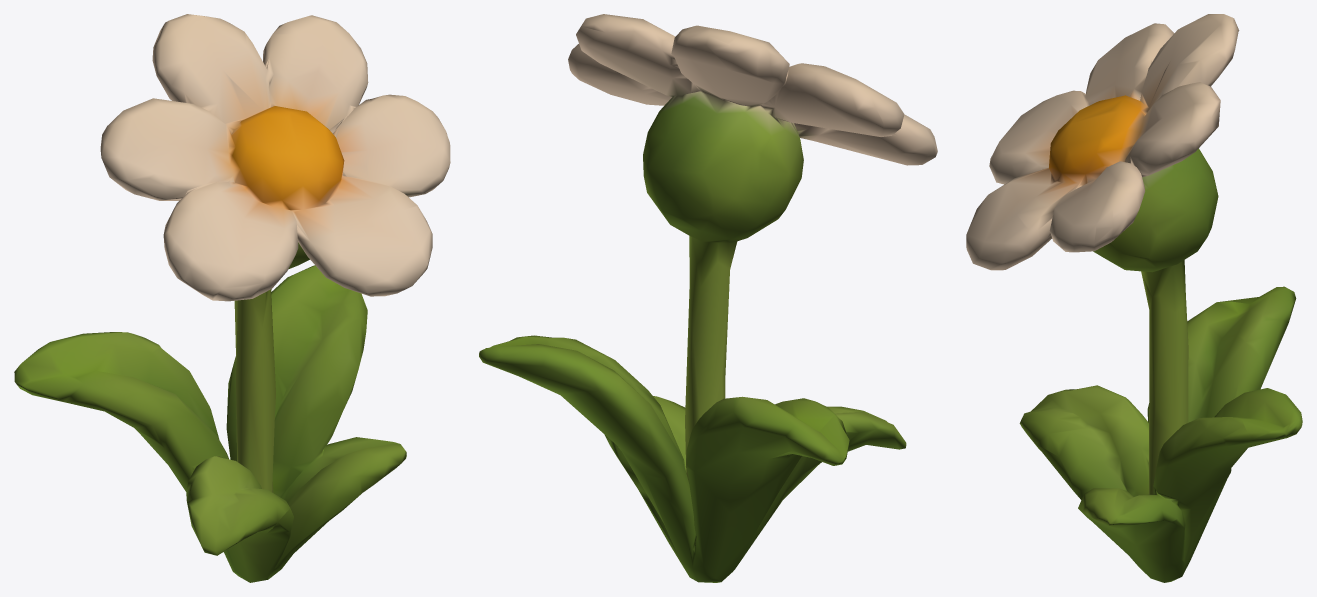
File: daisy.glb
3 renders of one model, left to right at view 1: azimuth 30°, elevation 25°; view 2: azimuth 150°, elevation 25°; view 3: azimuth 270°, elevation 25°, orthographic. The views are drawn at different scales.
Size of the model in its own units: 1.24 by 1.91 by 1.08.
